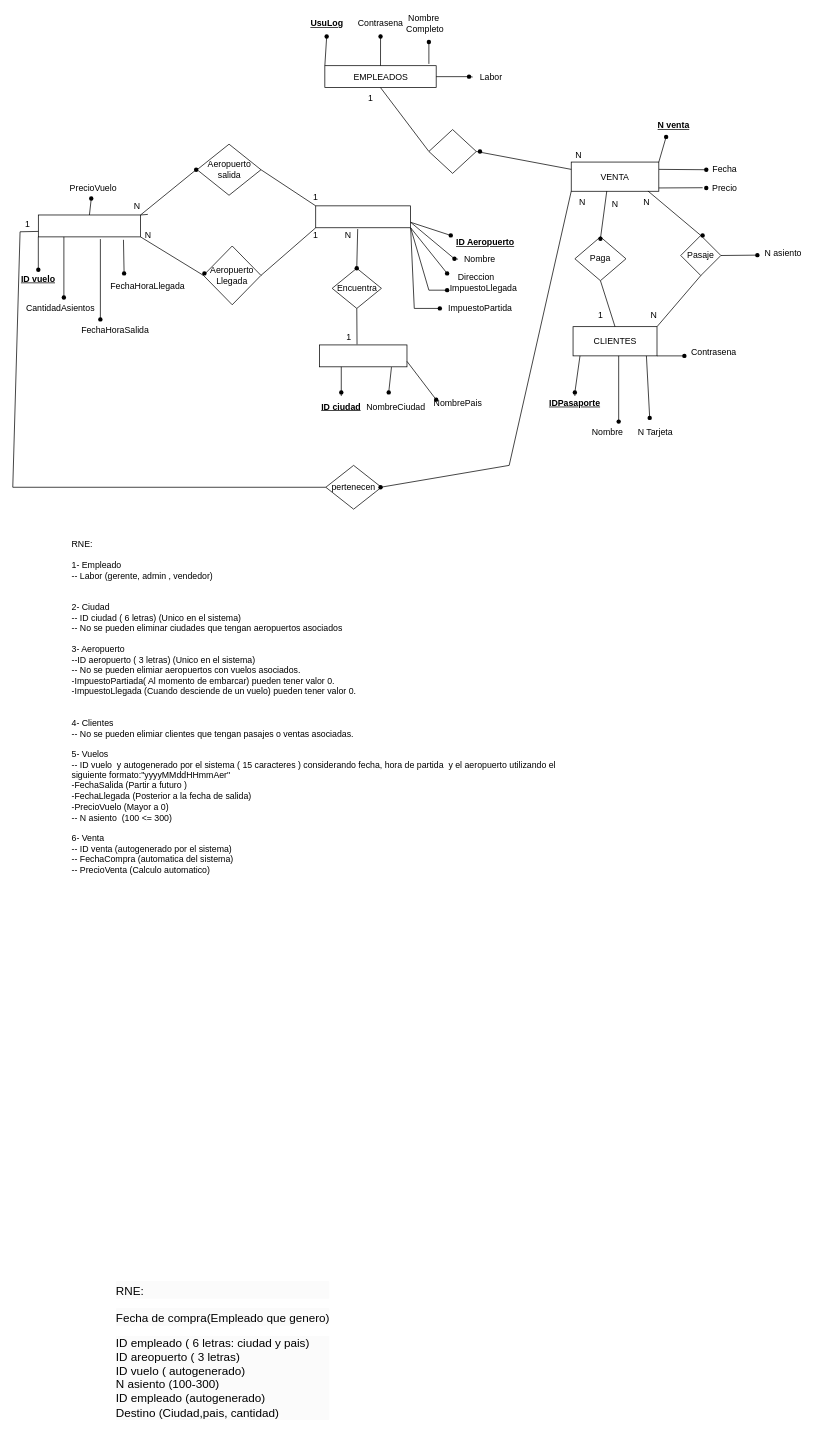
The diagram is 821 pixels wide and 1448 high, and some of its shapes have lost their labels. The centre of each missing label's shape, as x and y in pixels:
"AEROPUERTOS" goes at point 363,216.
"CIUDADES" goes at point 363,355.
"genera" goes at point 452,151.
"VUELOS" goes at point 89,225.
